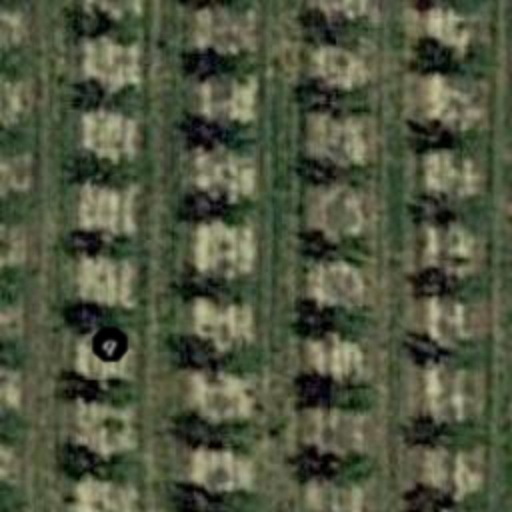octagon: (84, 318, 136, 370)
